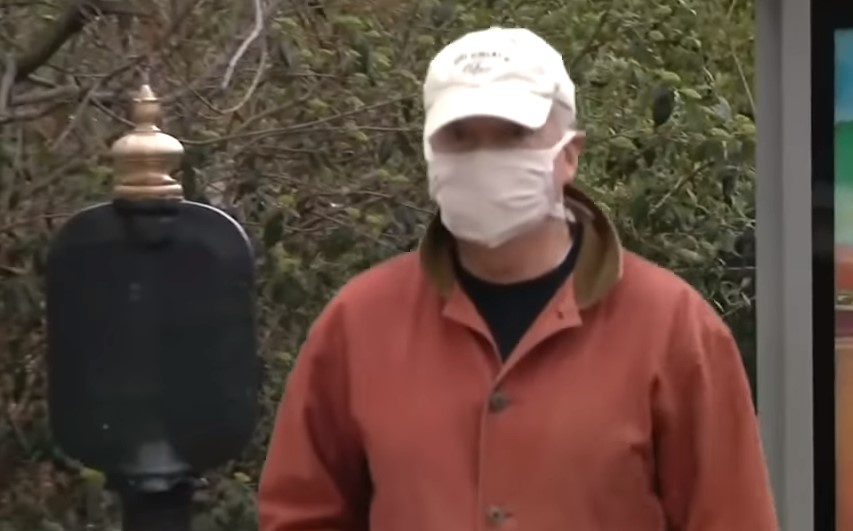face_with_mask: (417, 22, 599, 243)
